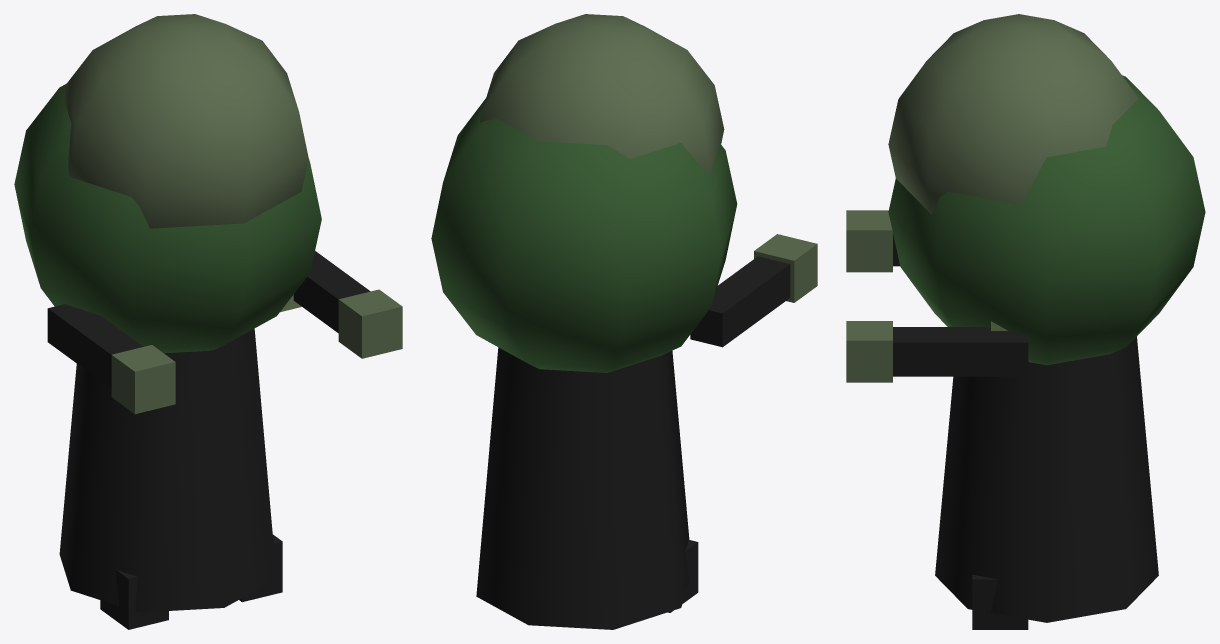
The model's file is AncientTreantB.glb.
The picture shows the model from 3 angles, left to right: view 1: azimuth 30°, elevation 25°; view 2: azimuth 150°, elevation 25°; view 3: azimuth 270°, elevation 25°; orthographic projection.
Parts seen in each view (by area): view 1: AncientTreantBody; view 2: AncientTreantBody; view 3: AncientTreantBody.
Boxes of the visible parts, left/top/right/bottom form: AncientTreantBody: left=14, top=14, right=402, bottom=629; AncientTreantBody: left=431, top=14, right=817, bottom=629; AncientTreantBody: left=846, top=14, right=1205, bottom=629.
Size of the model in its own units: 0.68 by 1.34 by 0.77.
